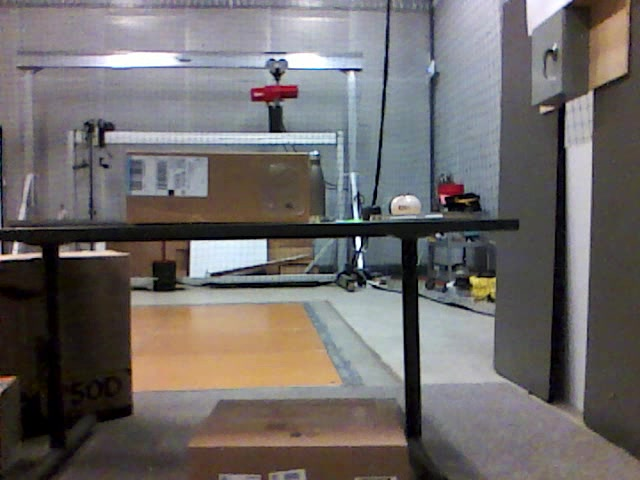box: (2, 252, 131, 424), (188, 399, 409, 480), (126, 152, 309, 223)
